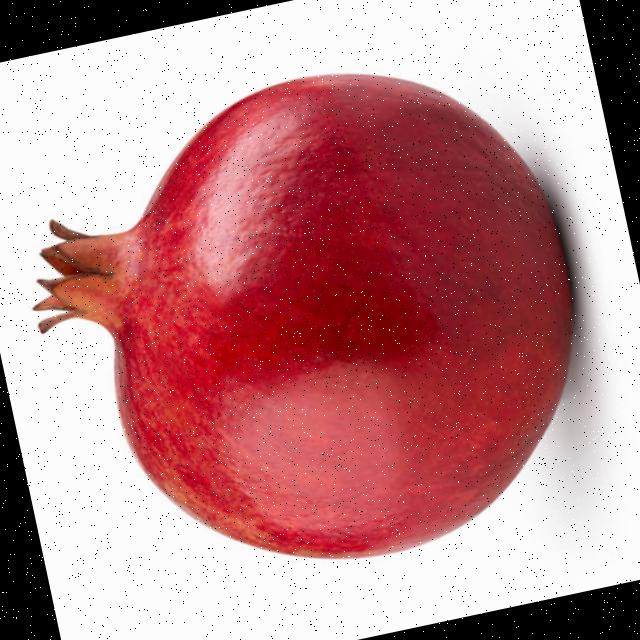Ripe: (0, 18, 621, 620)
